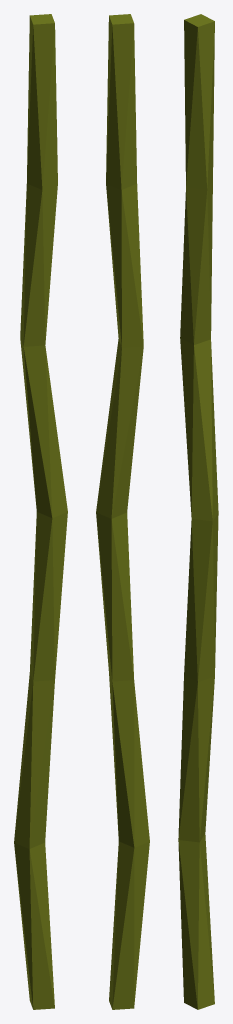
Rendered from Vine_2.fbx.
3 views of the same model, side by side, from view 1: azimuth 30°, elevation 25°; view 2: azimuth 210°, elevation 25°; view 3: azimuth 330°, elevation 25° (orthographic).
Parts seen in each view (by area): view 1: Vine_2.001; view 2: Vine_2.001; view 3: Vine_2.001.
Boxes of the visible parts, left/top/right/bottom form: Vine_2.001: left=14, top=14, right=67, bottom=1009; Vine_2.001: left=96, top=14, right=149, bottom=1009; Vine_2.001: left=178, top=14, right=218, bottom=1009.
Bounding box in the file's own units: 0.1526 × 3.47 × 0.1208.
